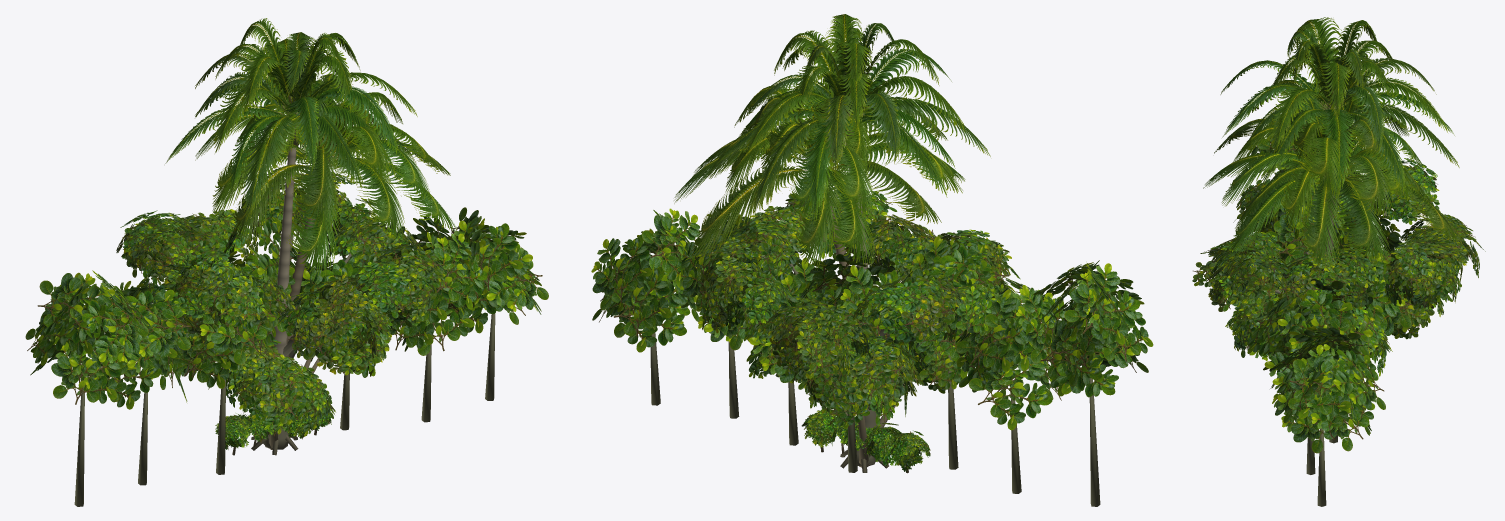
The model's file is vegetation-v1.glb.
3 views of the same model, side by side, from view 1: azimuth 30°, elevation 25°; view 2: azimuth 150°, elevation 25°; view 3: azimuth 270°, elevation 25° (orthographic). The views are drawn at different scales.
Parts seen in each view (by area): view 1: TreeBand_LeafAtlas, HammockTree_LeafAtlas, PalmRoyal_LeafAtlas, PalmCoconut_LeafAtlas, SeaGrapeTree_LeafAtlas, TreeBand_FloridaBark, HedgeCluster_LeafAtlas, PalmRoyal_FloridaBark, HammockTree_FloridaBark; view 2: TreeBand_LeafAtlas, HammockTree_LeafAtlas, PalmRoyal_LeafAtlas, PalmCoconut_LeafAtlas, SeaGrapeTree_LeafAtlas, TreeBand_FloridaBark, HedgeCluster_LeafAtlas, HammockTree_FloridaBark; view 3: TreeBand_LeafAtlas, PalmCoconut_LeafAtlas, HammockTree_LeafAtlas, PalmRoyal_LeafAtlas, SeaGrapeTree_LeafAtlas, TreeBand_FloridaBark.
Boxes of the visible parts, x1,y1,x2,y2 form: TreeBand_LeafAtlas: [25, 207, 548, 409]; HammockTree_LeafAtlas: [116, 170, 445, 358]; PalmRoyal_LeafAtlas: [165, 18, 417, 221]; PalmCoconut_LeafAtlas: [195, 73, 456, 277]; SeaGrapeTree_LeafAtlas: [193, 268, 392, 436]; TreeBand_FloridaBark: [74, 313, 495, 506]; HedgeCluster_LeafAtlas: [215, 404, 335, 449]; PalmRoyal_FloridaBark: [265, 147, 296, 448]; HammockTree_FloridaBark: [169, 229, 375, 455]; TreeBand_LeafAtlas: [591, 205, 1153, 430]; HammockTree_LeafAtlas: [685, 190, 1020, 382]; PalmRoyal_LeafAtlas: [717, 14, 990, 219]; PalmCoconut_LeafAtlas: [674, 83, 965, 270]; SeaGrapeTree_LeafAtlas: [744, 276, 970, 428]; TreeBand_FloridaBark: [650, 333, 1100, 506]; HedgeCluster_LeafAtlas: [801, 409, 930, 473]; HammockTree_FloridaBark: [742, 263, 896, 472]; TreeBand_LeafAtlas: [1246, 110, 1412, 453]; PalmCoconut_LeafAtlas: [1203, 91, 1463, 271]; HammockTree_LeafAtlas: [1192, 158, 1485, 311]; PalmRoyal_LeafAtlas: [1220, 17, 1459, 201]; SeaGrapeTree_LeafAtlas: [1225, 247, 1452, 376]; TreeBand_FloridaBark: [1306, 428, 1337, 506].
Bounding box in the file's own units: 25.99 × 19.37 × 13.71.
3 materials, 1 textured.
